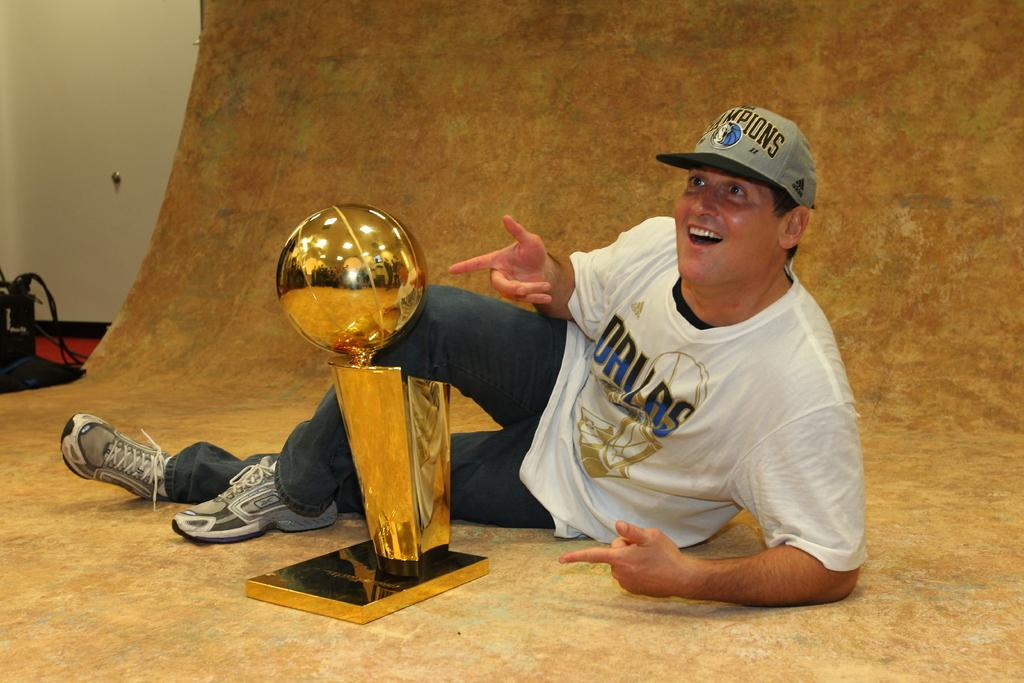Hat: (658, 102, 820, 211)
